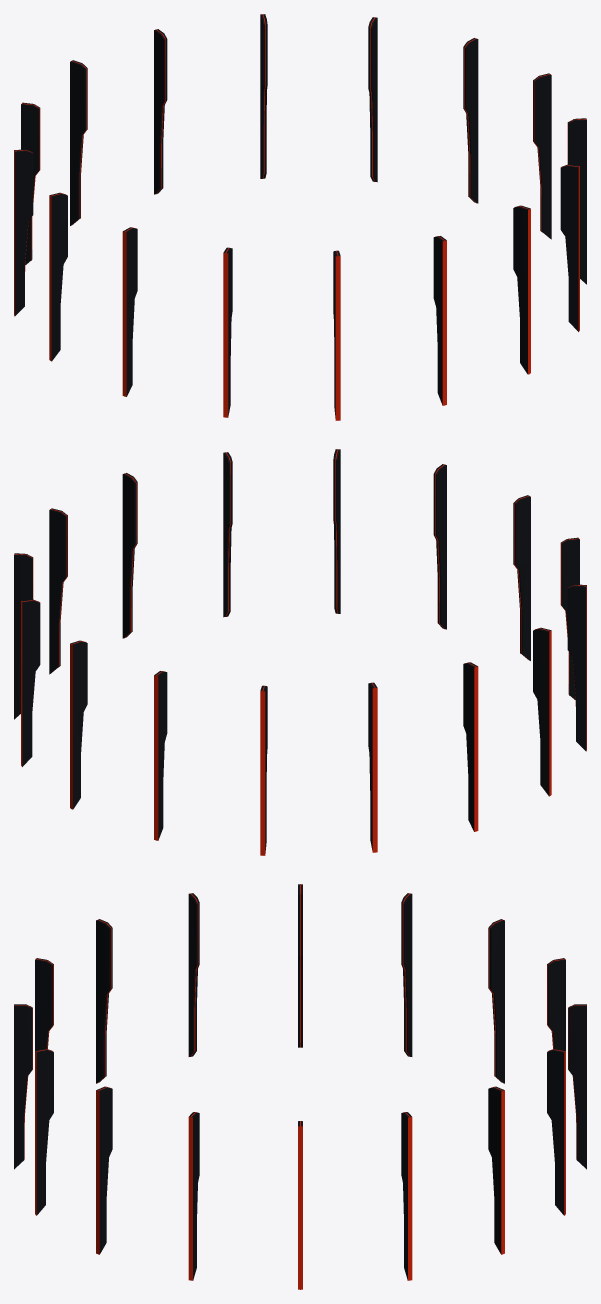
The model's file is separater_Wave.fbx.
The picture shows the model from 3 angles, top to bottom: view 1: azimuth 30°, elevation 25°; view 2: azimuth 150°, elevation 25°; view 3: azimuth 270°, elevation 25°; orthographic projection.
Visible parts, largest first — view 1: pCube64; view 2: pCube64; view 3: pCube64.
Boxes of the visible parts, x1=… form: pCube64: x1=14, y1=14, x2=586, y2=420; pCube64: x1=14, y1=449, x2=586, y2=855; pCube64: x1=14, y1=884, x2=586, y2=1289.
Bounding box in the file's own units: 50.05 × 15.78 × 50.05.
